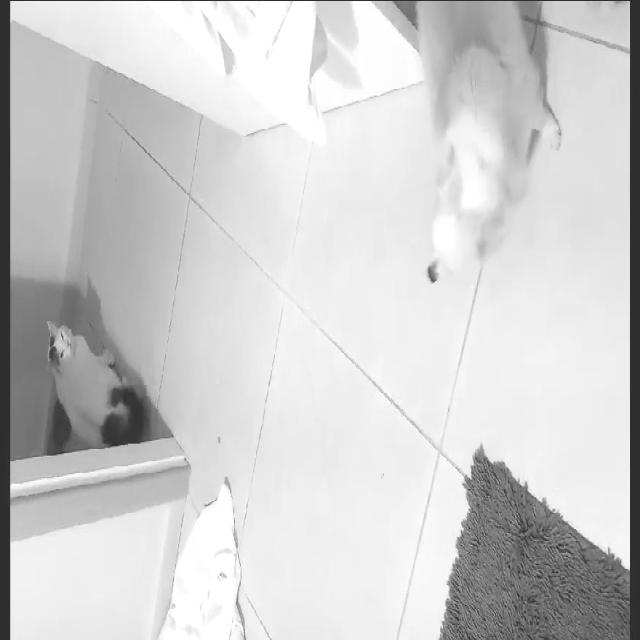Simba: (34, 311, 150, 457)
Theo: (387, 1, 551, 312)
